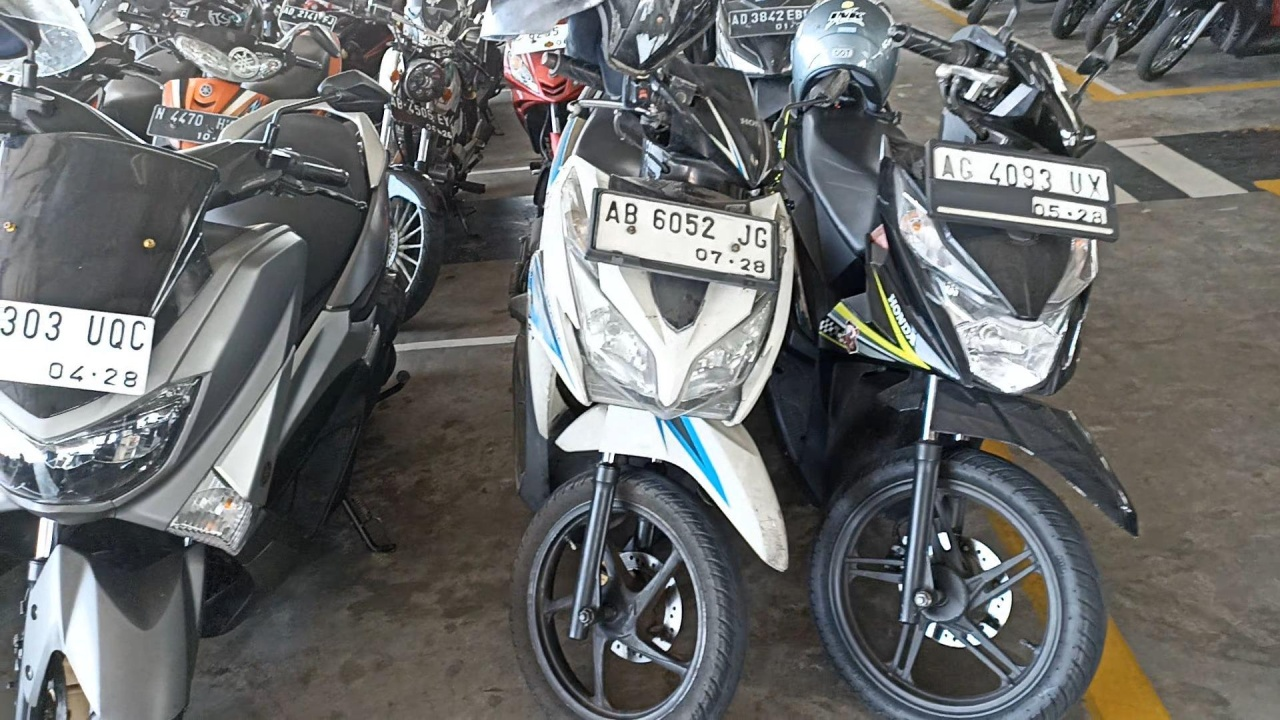plate: (592, 190, 774, 281), (933, 144, 1115, 235)
